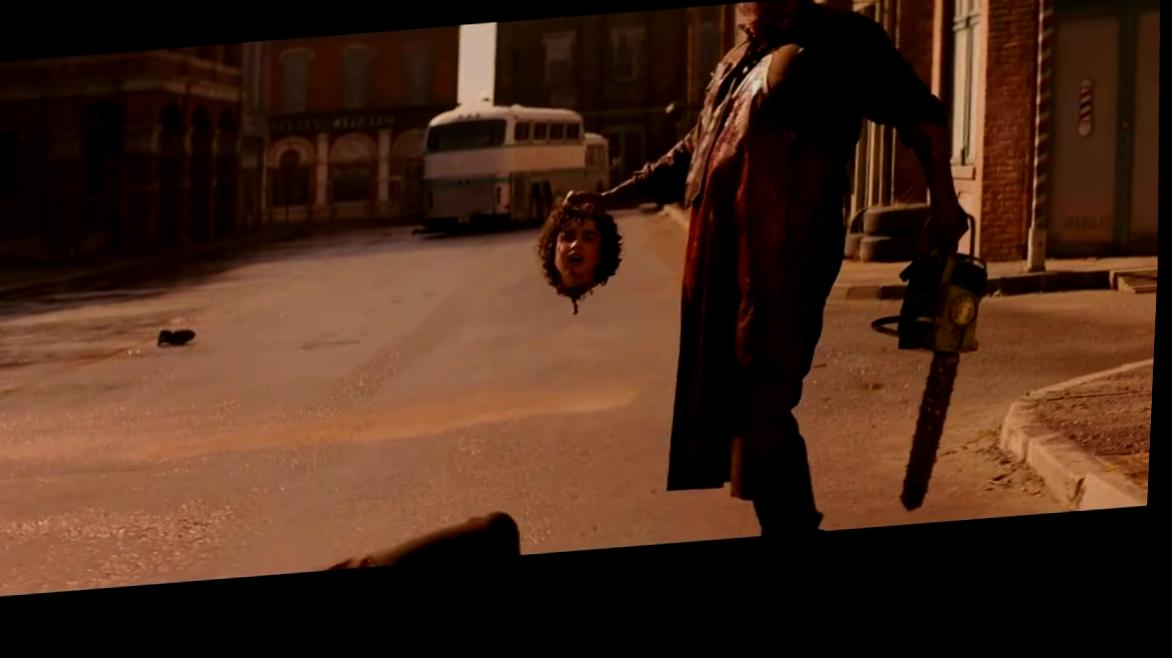Fire: (673, 61, 790, 509), (904, 361, 968, 527), (914, 141, 961, 243), (737, 4, 818, 54), (558, 289, 606, 326)
